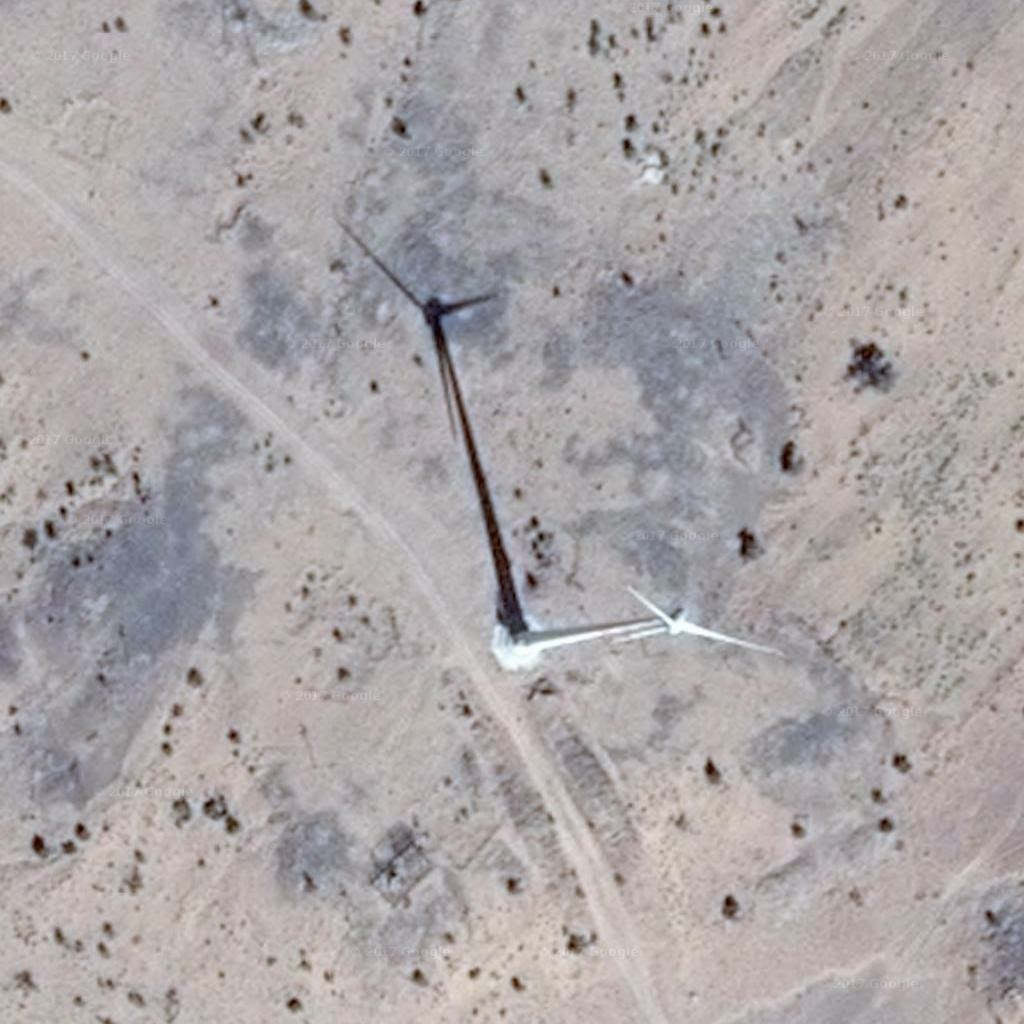Windmill: (331, 211, 525, 579)
